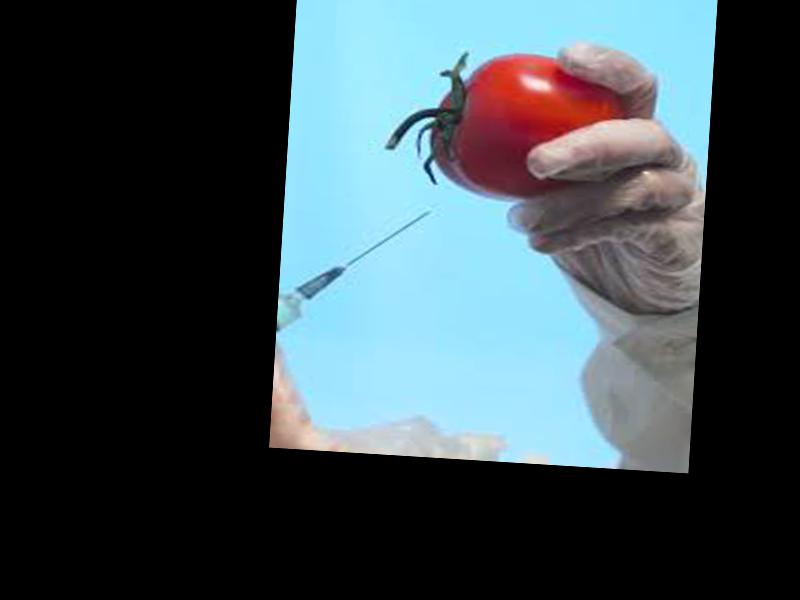Tomato: (427, 47, 629, 205)
